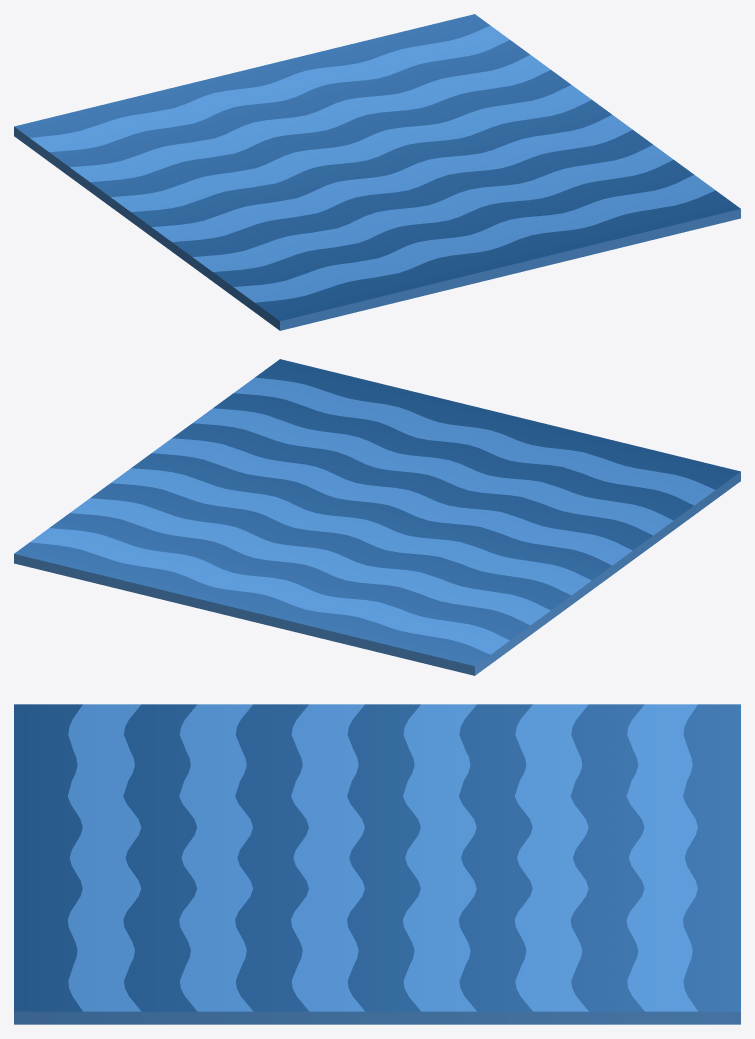
Rendered from Ground_55.glb.
3 views of the same model, one above another, from view 1: azimuth 30°, elevation 25°; view 2: azimuth 150°, elevation 25°; view 3: azimuth 270°, elevation 25° (orthographic). The views are drawn at different scales.
Visible parts, largest first — view 1: Ground_55; view 2: Ground_55; view 3: Ground_55.
Part boxes in pixels (x1,y1,x2,y2): Ground_55: [14, 14, 740, 330]; Ground_55: [14, 359, 740, 675]; Ground_55: [14, 704, 740, 1024].
Bounding box in the file's own units: 2.5 × 0.05 × 2.5.
Materials: 1 (1 with a texture image).
